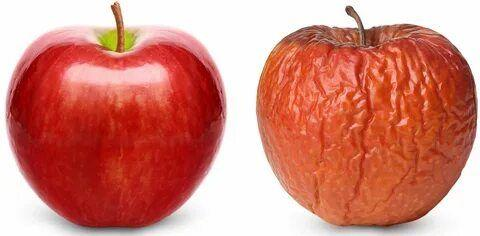Apple: (7, 25, 226, 229), (257, 26, 473, 226)
